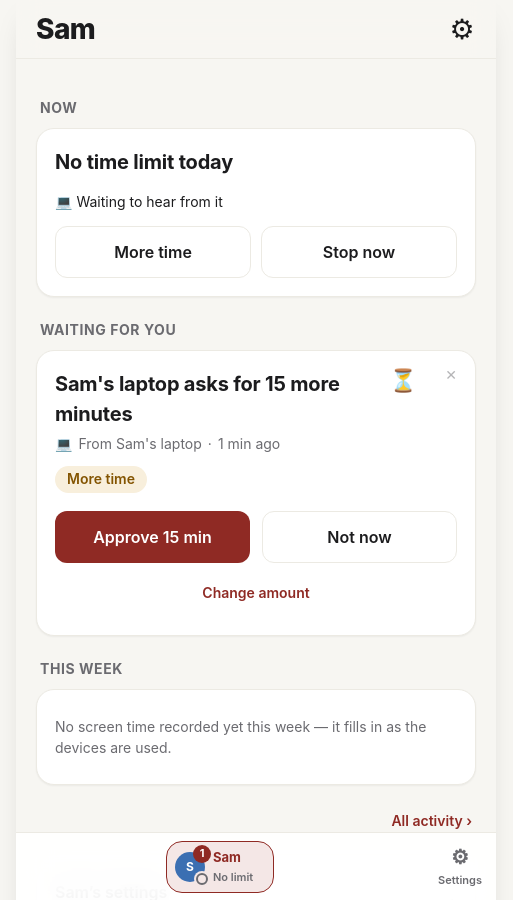
Test case: App shell and routes › Settings in the bottom bar opens Settings, with no back arrow
This screenshot has width=513, height=900.
What coordinates should you click on to do the following:
click the button "⚙ Settings"
I would click on:
 (460, 866)
Its box is x1=424 y1=833 x2=496 y2=899.
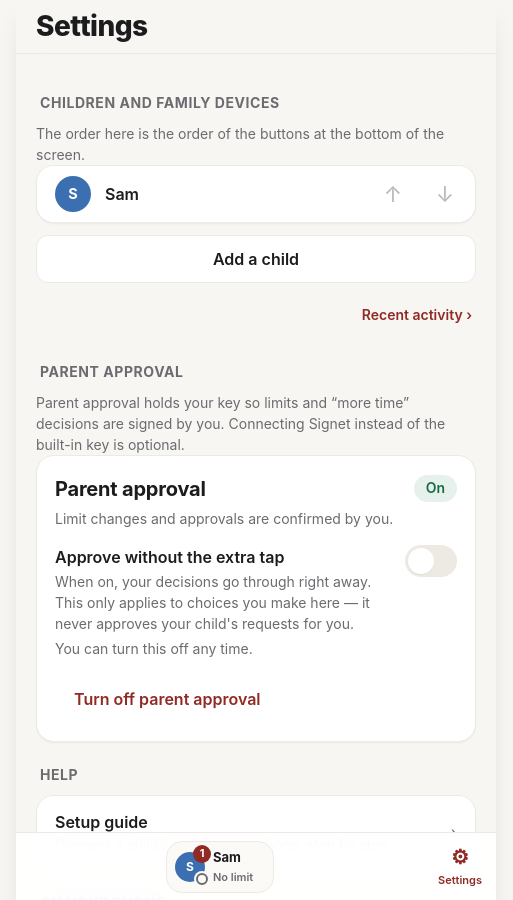
expect the heading "Settings" is shown: met, box x1=36 y1=9 x2=148 y2=43
